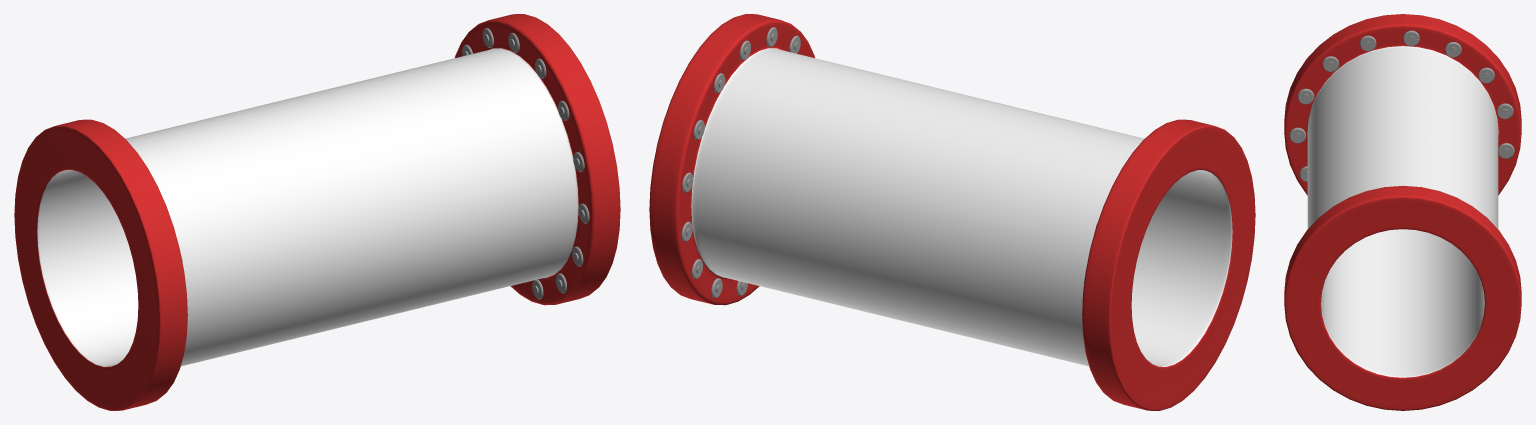
File: pipes.fbx
3 views of the same model, side by side, from view 1: azimuth 30°, elevation 25°; view 2: azimuth 150°, elevation 25°; view 3: azimuth 270°, elevation 25° (orthographic). The views are drawn at different scales.
Visible parts, largest first — view 1: pipes; view 2: pipes; view 3: pipes.
Boxes of the visible parts, x1,y1,x2,y2 form: pipes: [14, 14, 620, 410]; pipes: [649, 14, 1255, 410]; pipes: [1284, 14, 1521, 410].
Size of the model in its own units: 6.13 by 3.37 by 3.37.
